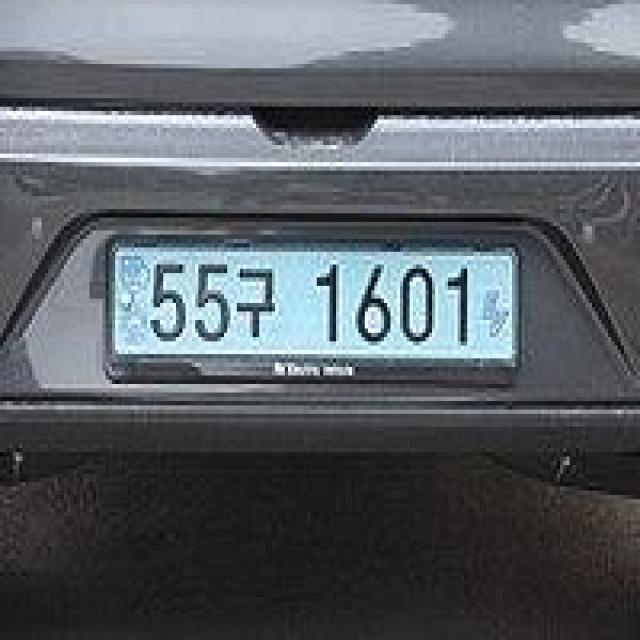EV_plate: (99, 226, 531, 398)
